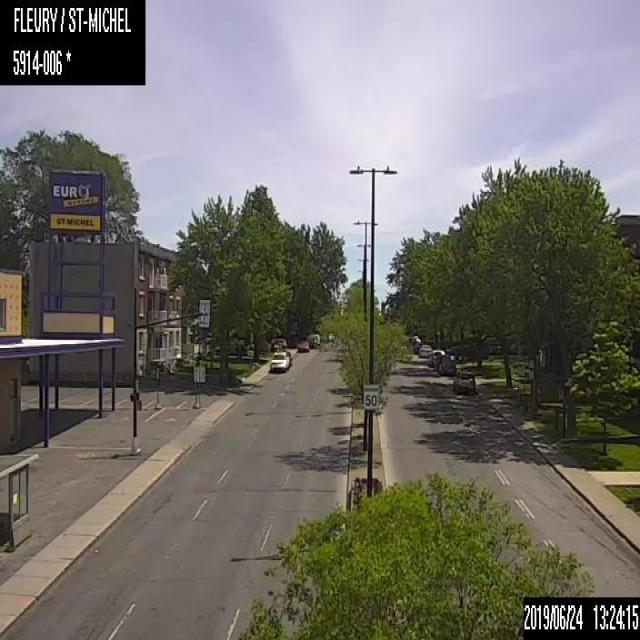vehicle: (450, 370, 476, 394), (268, 348, 290, 372), (437, 356, 457, 376), (427, 348, 445, 368), (417, 343, 433, 358), (270, 337, 286, 349), (297, 340, 309, 350)
